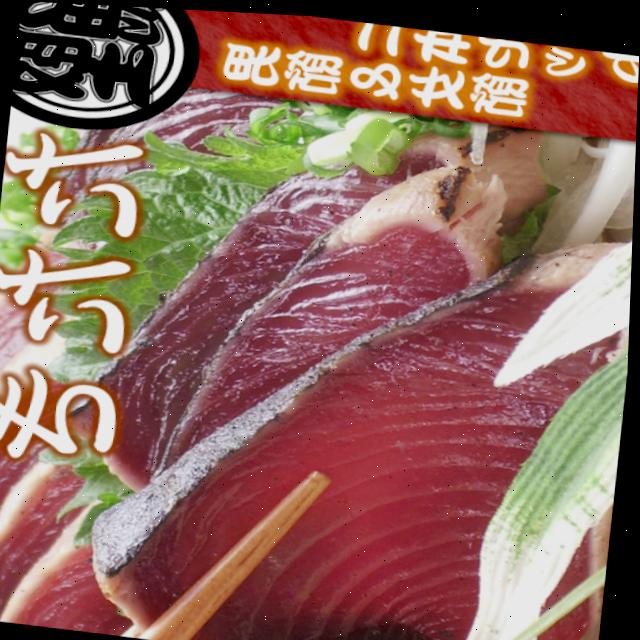熟制海鲜: (45, 110, 590, 640)
